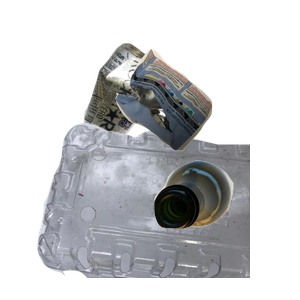glass: (151, 158, 300, 300)
metal: (81, 41, 234, 178)
plastic: (35, 120, 275, 300)
trash: (113, 46, 300, 189)
